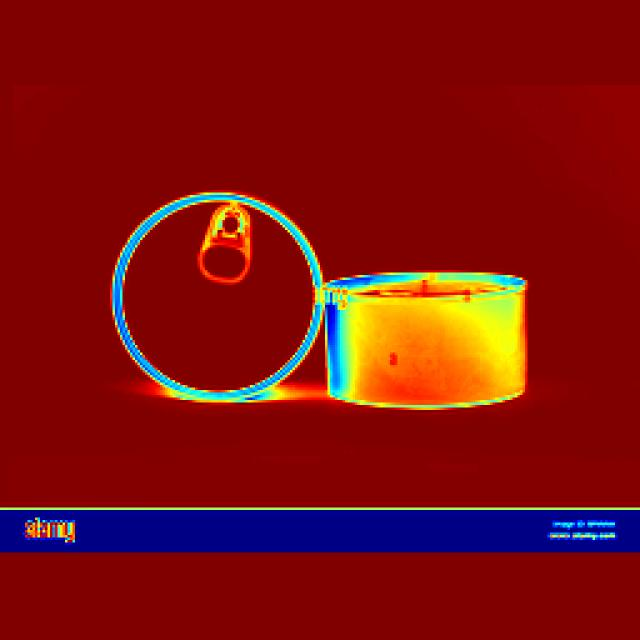Aluminium Food Cans: (117, 175, 333, 413), (311, 239, 532, 449)
